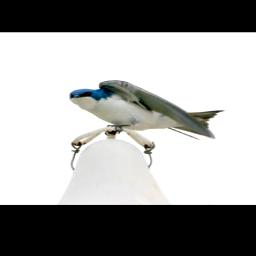Swallow: (68, 79, 226, 142)
